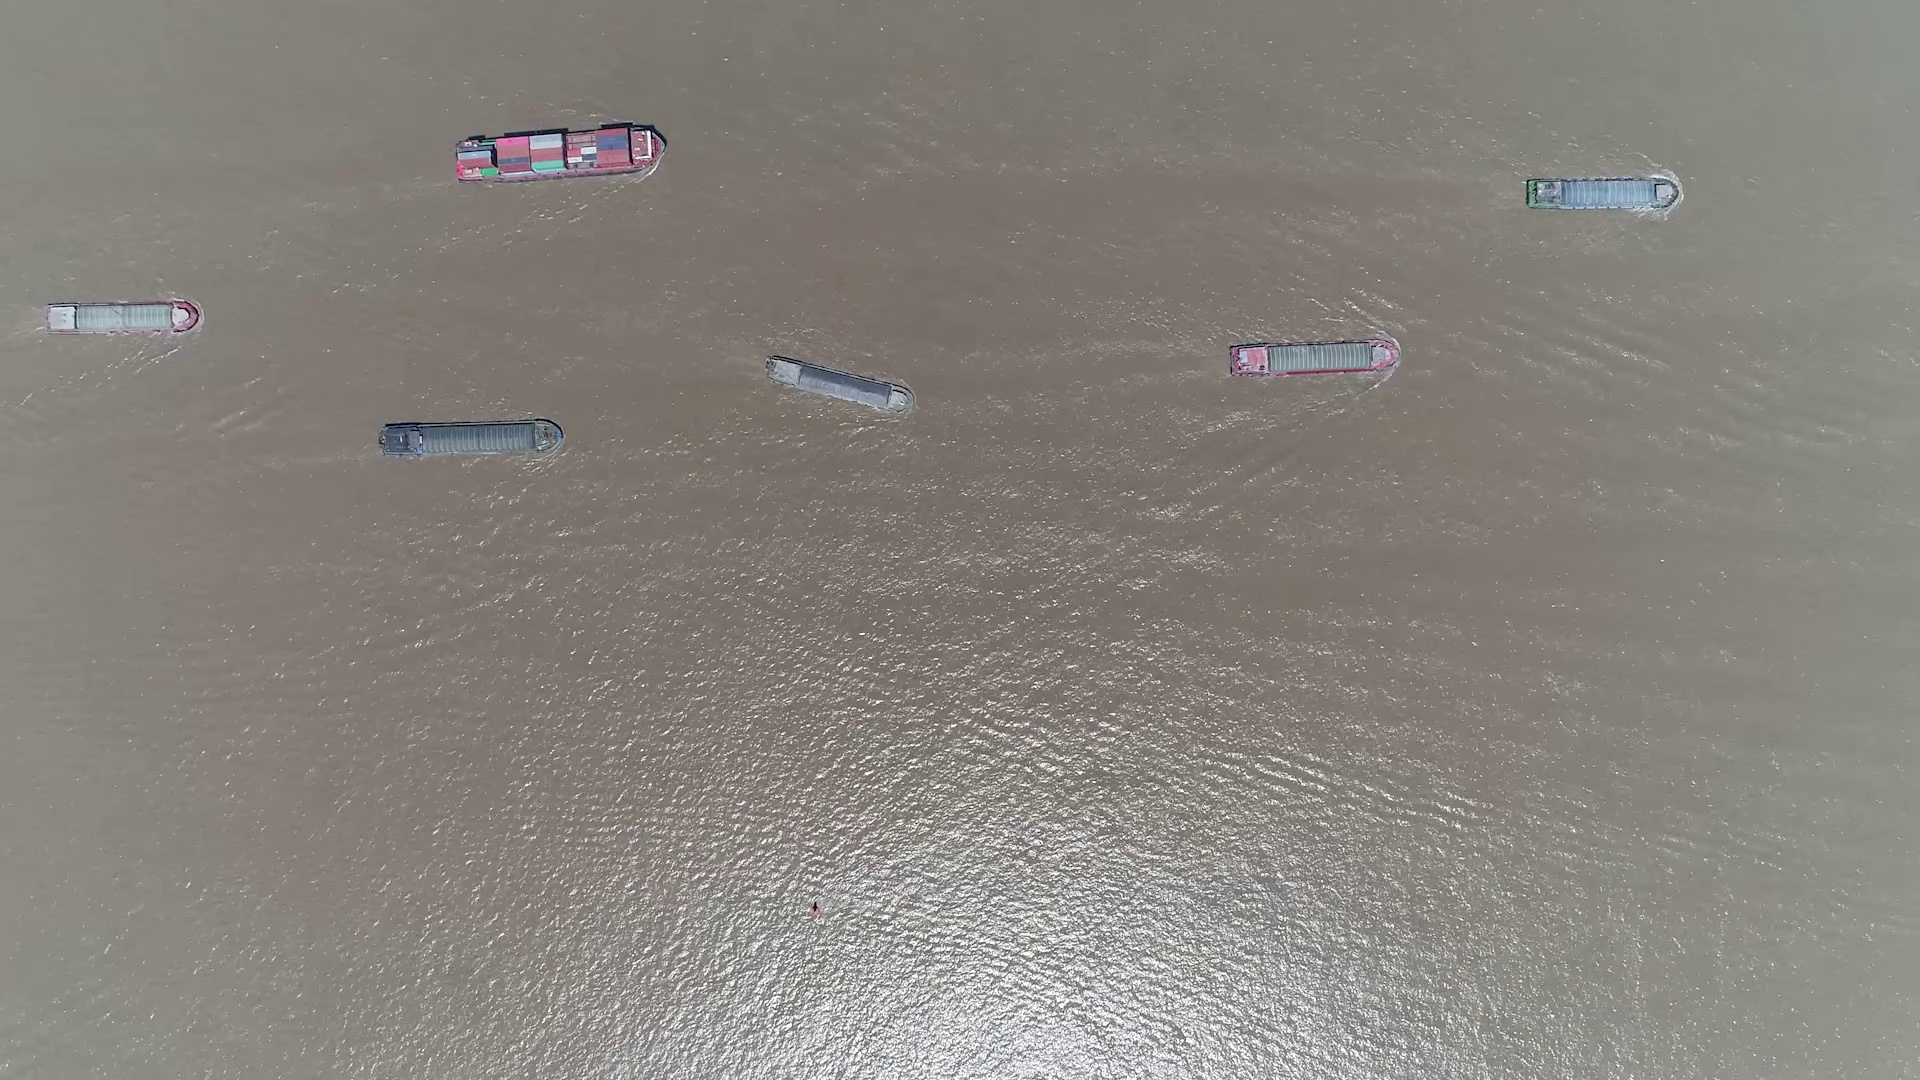ship: (454, 127, 661, 182), (764, 355, 913, 411), (378, 419, 560, 458), (1228, 339, 1399, 377), (41, 302, 198, 334), (1527, 179, 1676, 211)
